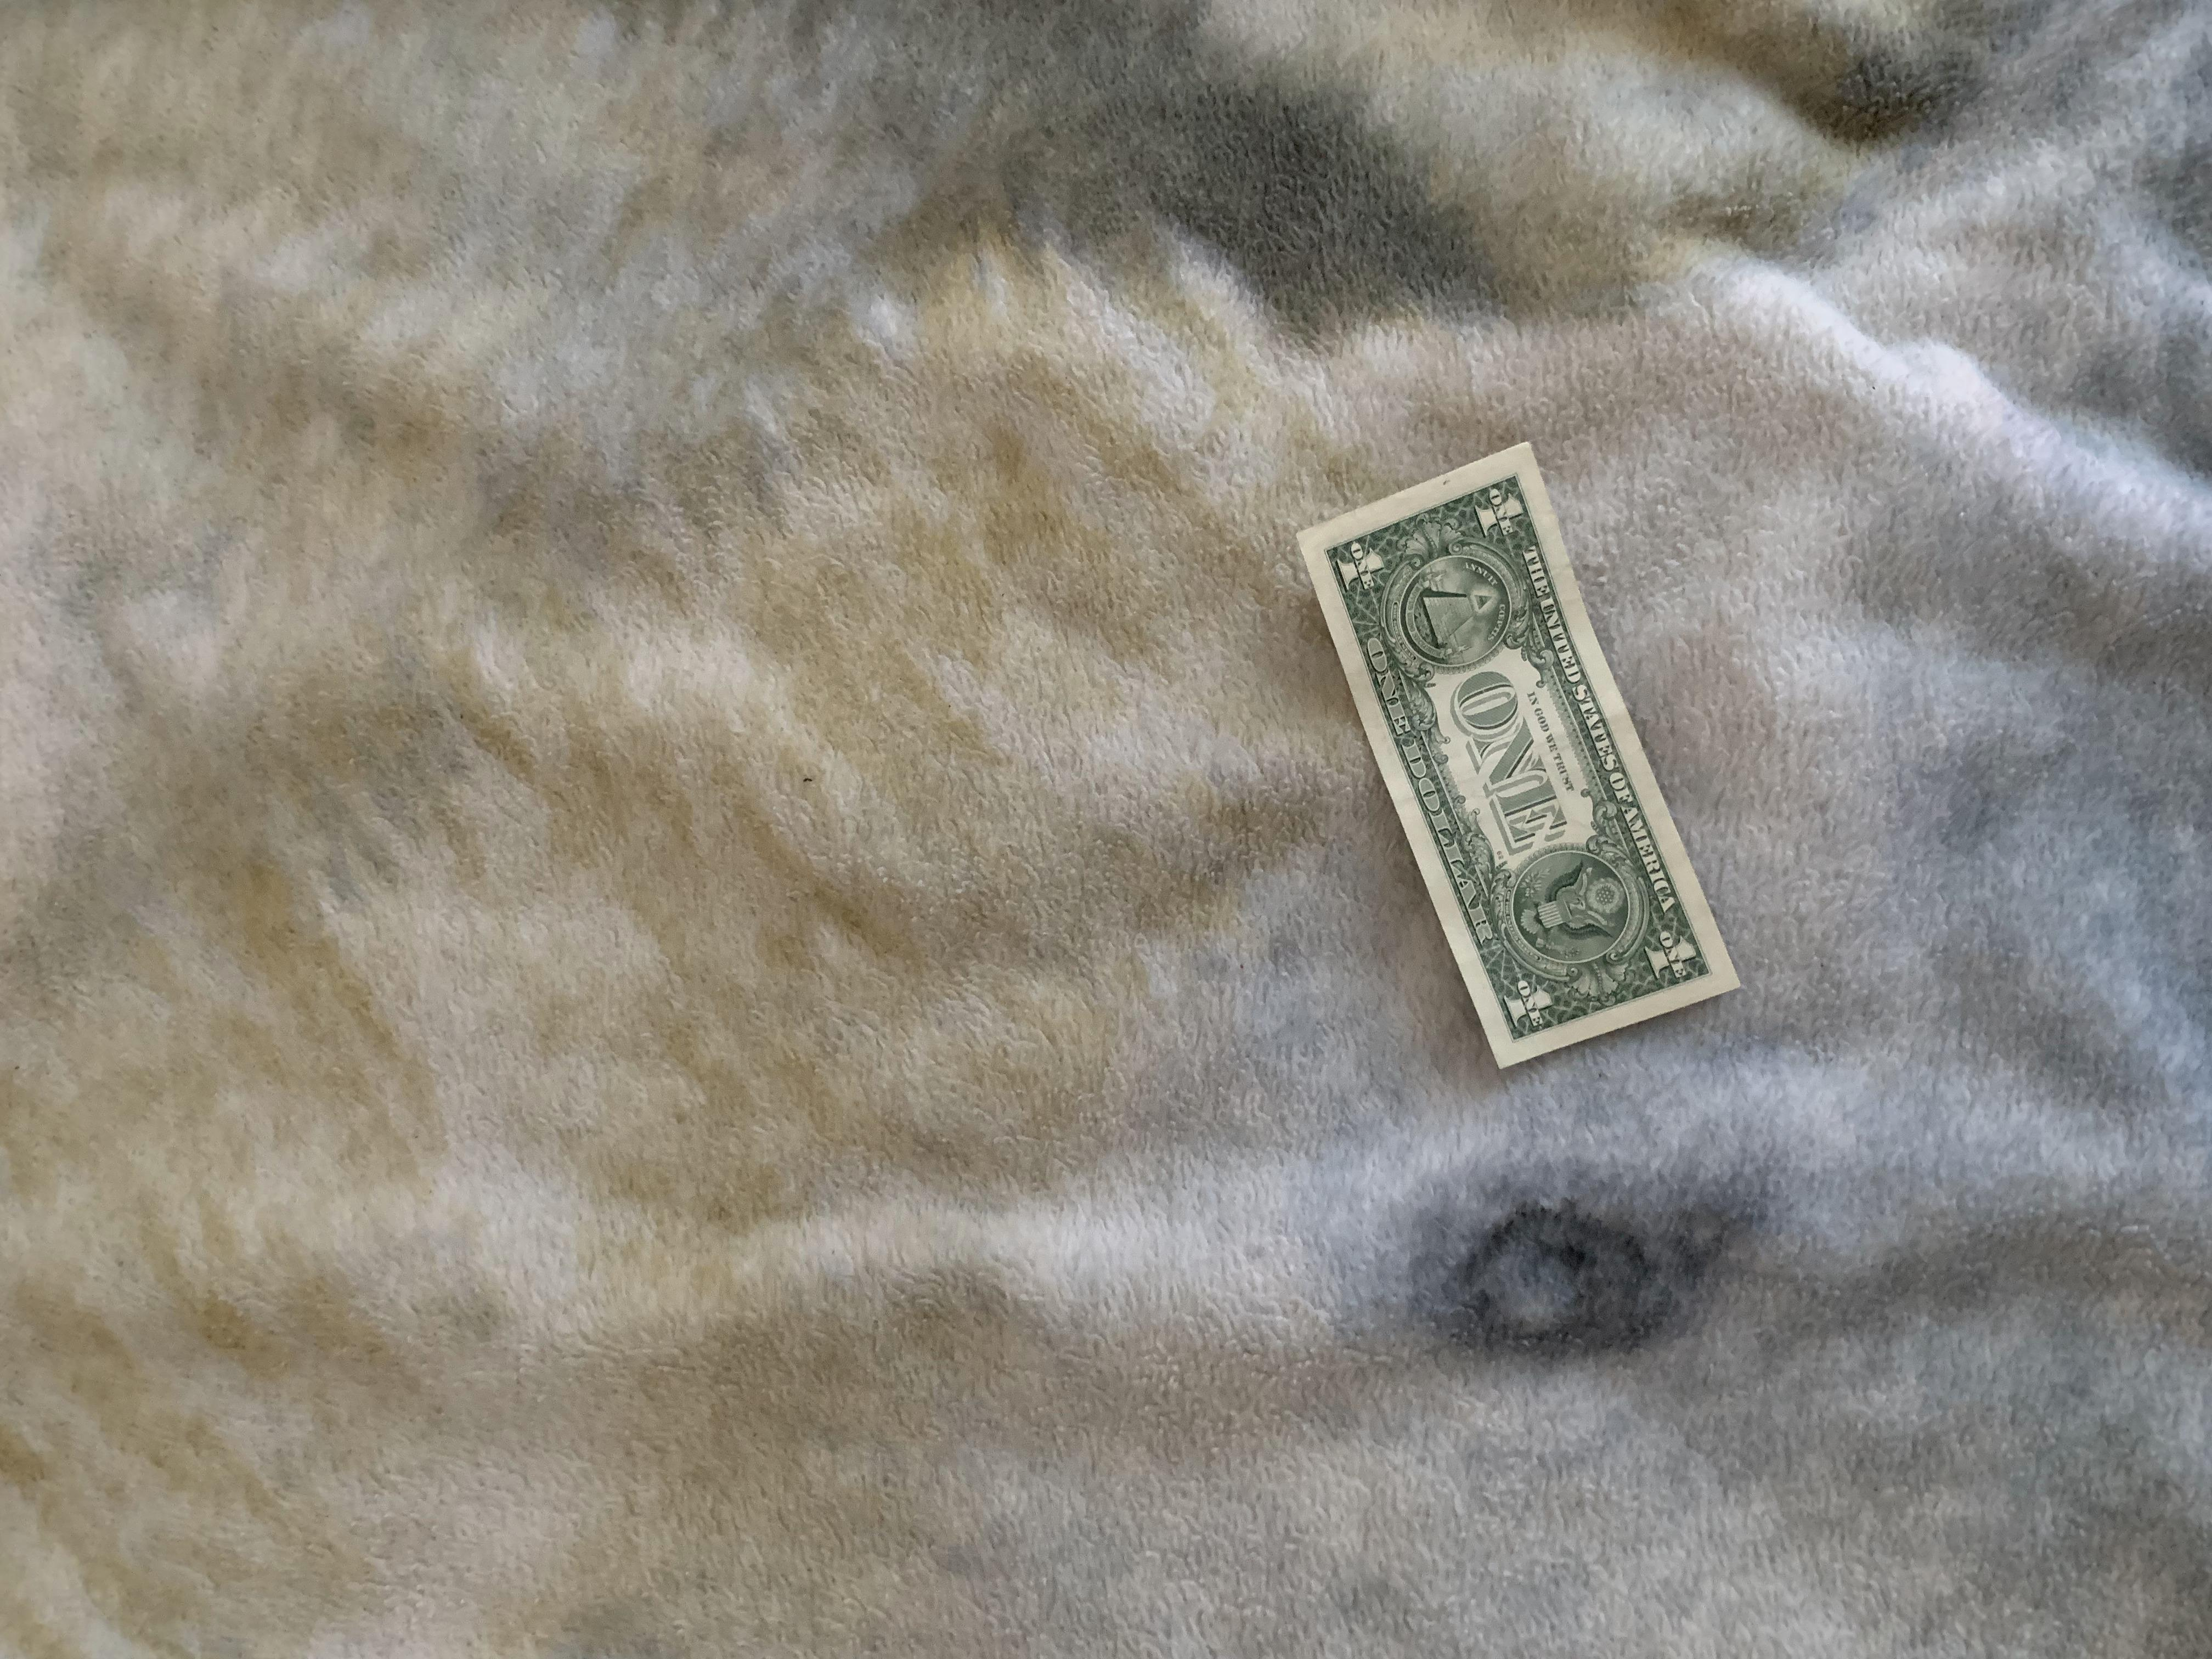OneBill: (1292, 427, 1745, 1077)
